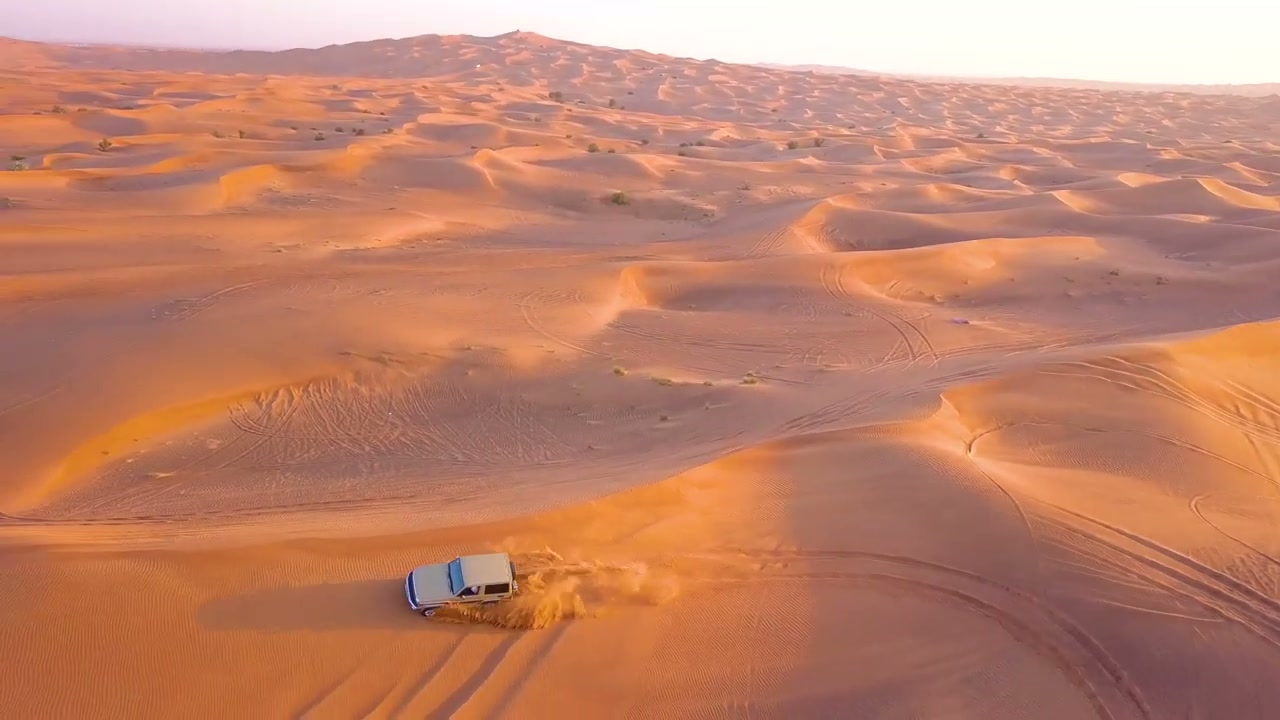vehicle_track: (708, 549, 1151, 719), (858, 573, 1114, 719), (1036, 500, 1279, 647), (0, 483, 439, 529), (970, 420, 1279, 484), (1063, 356, 1279, 442), (6, 492, 420, 527), (965, 436, 1045, 592), (819, 264, 938, 366), (606, 318, 799, 374), (607, 318, 795, 373), (229, 382, 391, 442), (820, 264, 916, 365), (428, 633, 530, 716), (395, 383, 492, 463), (490, 624, 568, 716), (939, 326, 1144, 360), (388, 633, 466, 717), (1189, 495, 1279, 567), (606, 319, 732, 370), (218, 389, 300, 467), (171, 403, 263, 471), (517, 291, 607, 356), (481, 398, 572, 459), (607, 319, 772, 352), (777, 390, 889, 434), (937, 332, 1094, 362), (160, 280, 266, 320), (855, 304, 920, 366), (297, 661, 360, 719), (879, 308, 939, 365), (932, 340, 1039, 365), (788, 329, 856, 368), (1218, 378, 1279, 415), (919, 364, 1005, 390), (0, 387, 62, 416), (742, 225, 790, 258)
